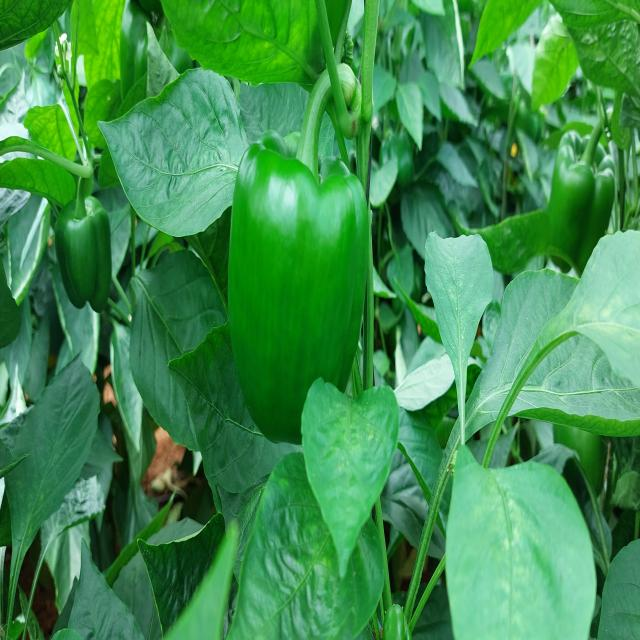Green--Not-ready-to-harvest: (225, 135, 376, 465), (551, 123, 615, 276), (56, 187, 118, 335)
